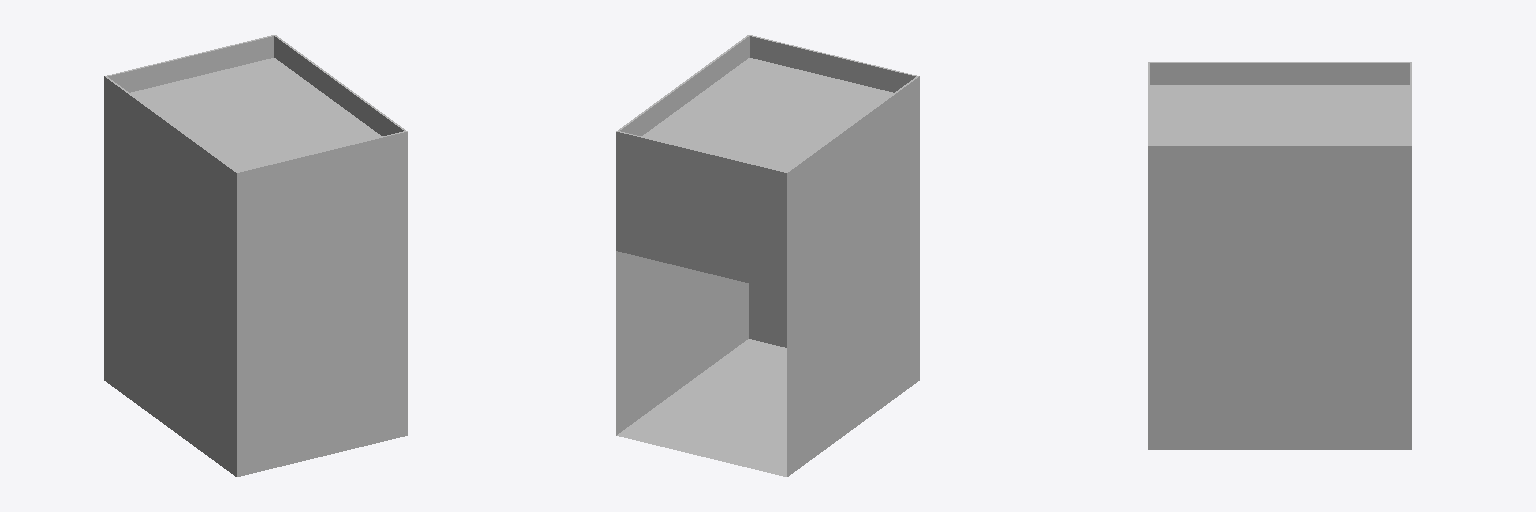
File: LobsterTank.obj
The picture shows the model from 3 angles: view 1: azimuth 30°, elevation 25°; view 2: azimuth 150°, elevation 25°; view 3: azimuth 270°, elevation 25°; orthographic projection.
Visible parts, largest first — view 1: Lobster_Tank; view 2: Lobster_Tank; view 3: Lobster_Tank.
Boxes of the visible parts, <box> form: Lobster_Tank: <box>104,35,407,476</box>; Lobster_Tank: <box>616,35,919,476</box>; Lobster_Tank: <box>1148,62,1411,449</box>.
Bounding box in the file's own units: 0.8462 × 1.44 × 1.13.